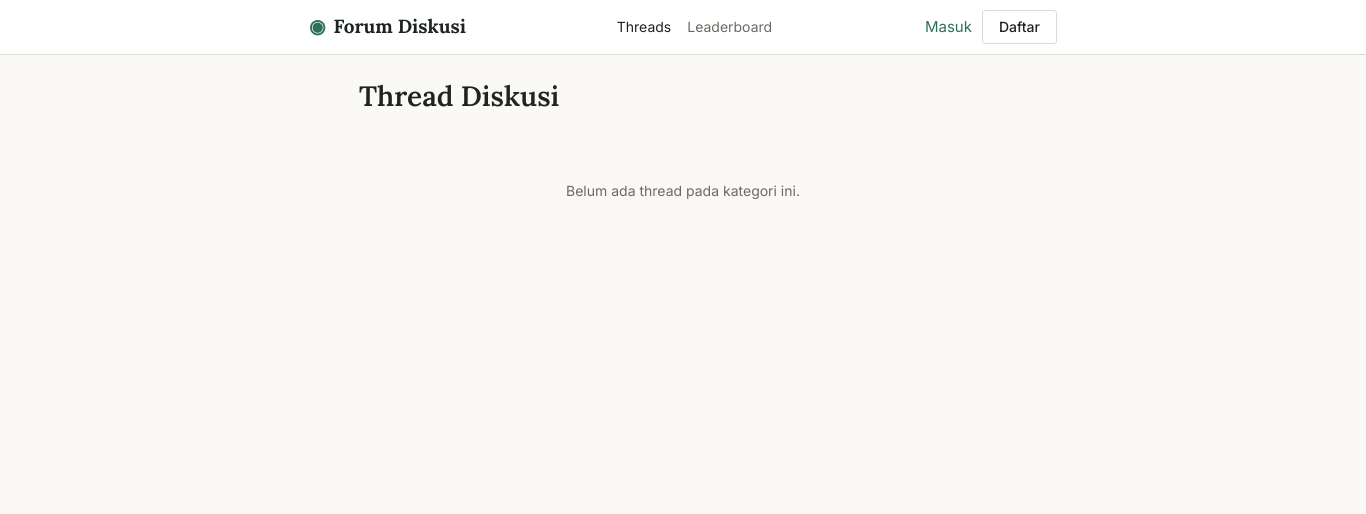
it: Login Aplikasi Forum Diskusi › menampilkan alert saat email tidak diisi
Click the link "Masuk". click: (949, 27)
box: [923,11,974,42]
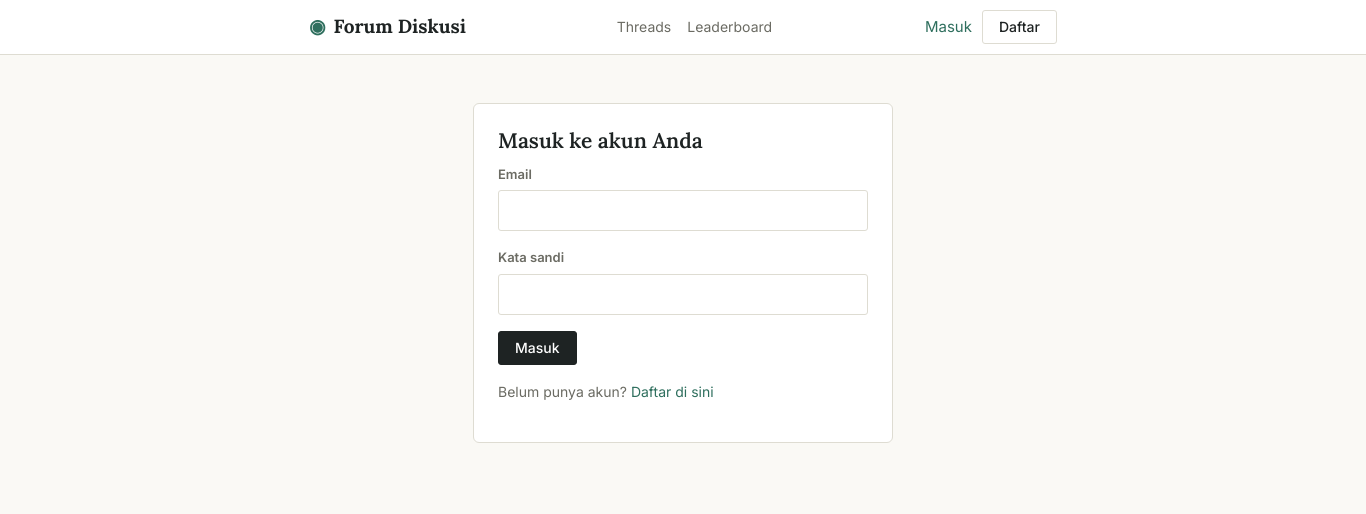
Type "password_bebas" into the password field named "password". click: (683, 295)
box: [498,274,868,315]
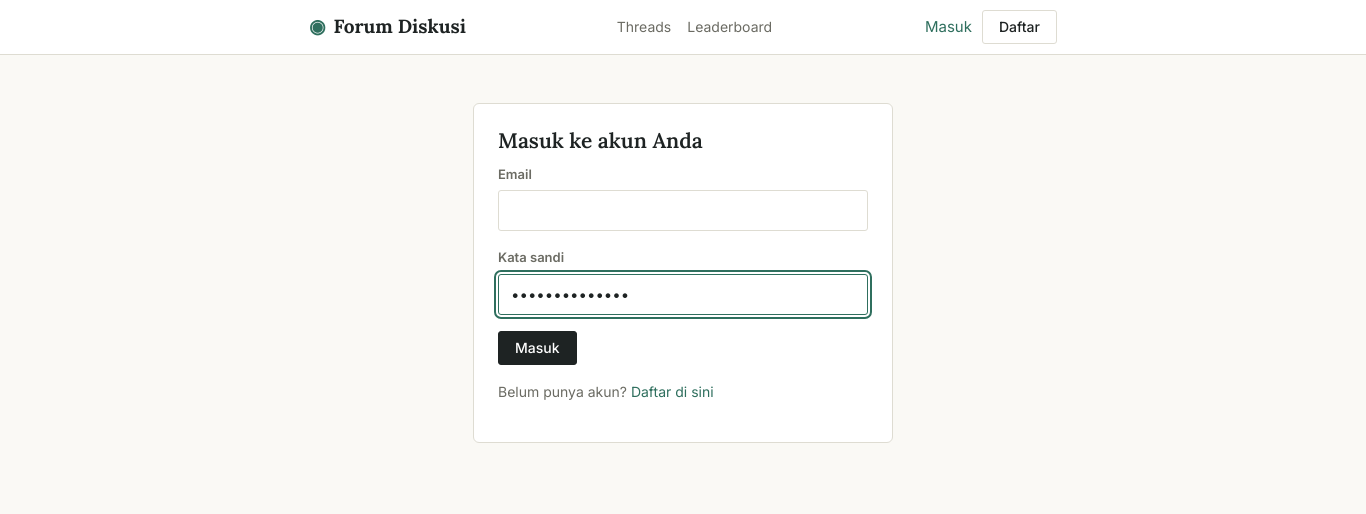
Click the button "Masuk". click: (538, 348)
box: [498,331,577,365]
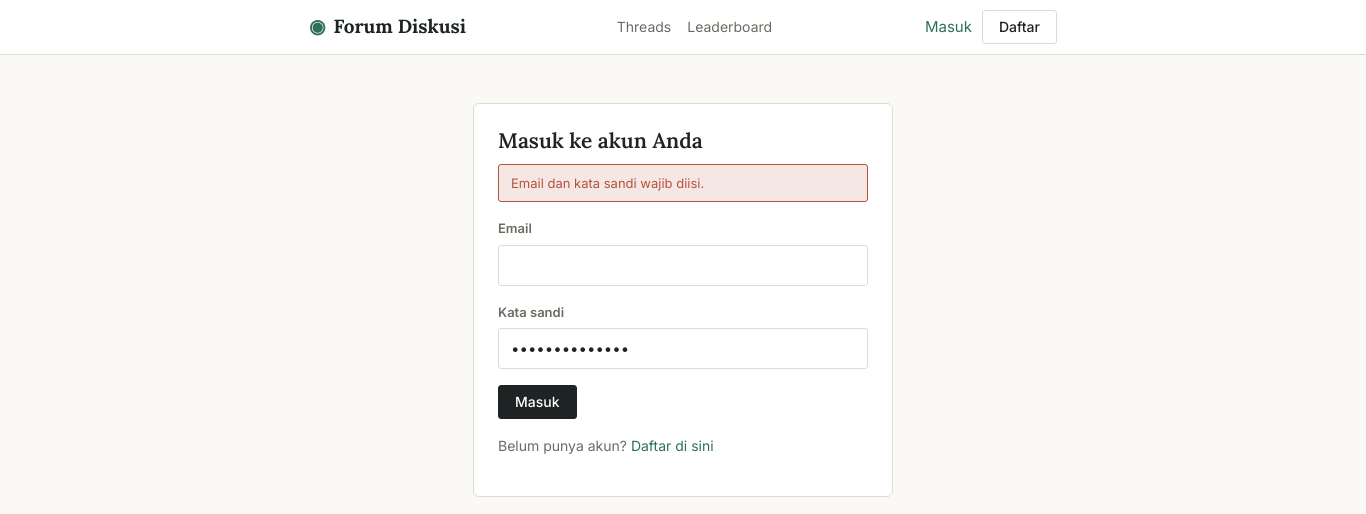
Expected: the text "Email dan kata sandi wajib diisi." is shown, [498,164,868,202]
